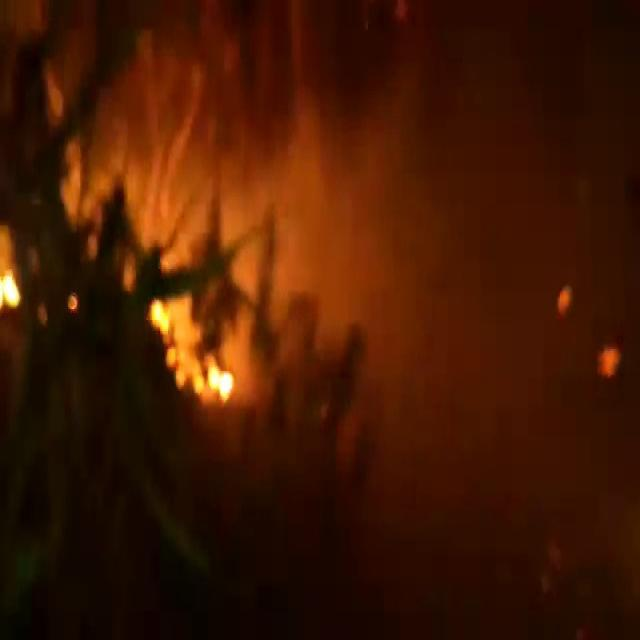Fire: (144, 292, 236, 410)
